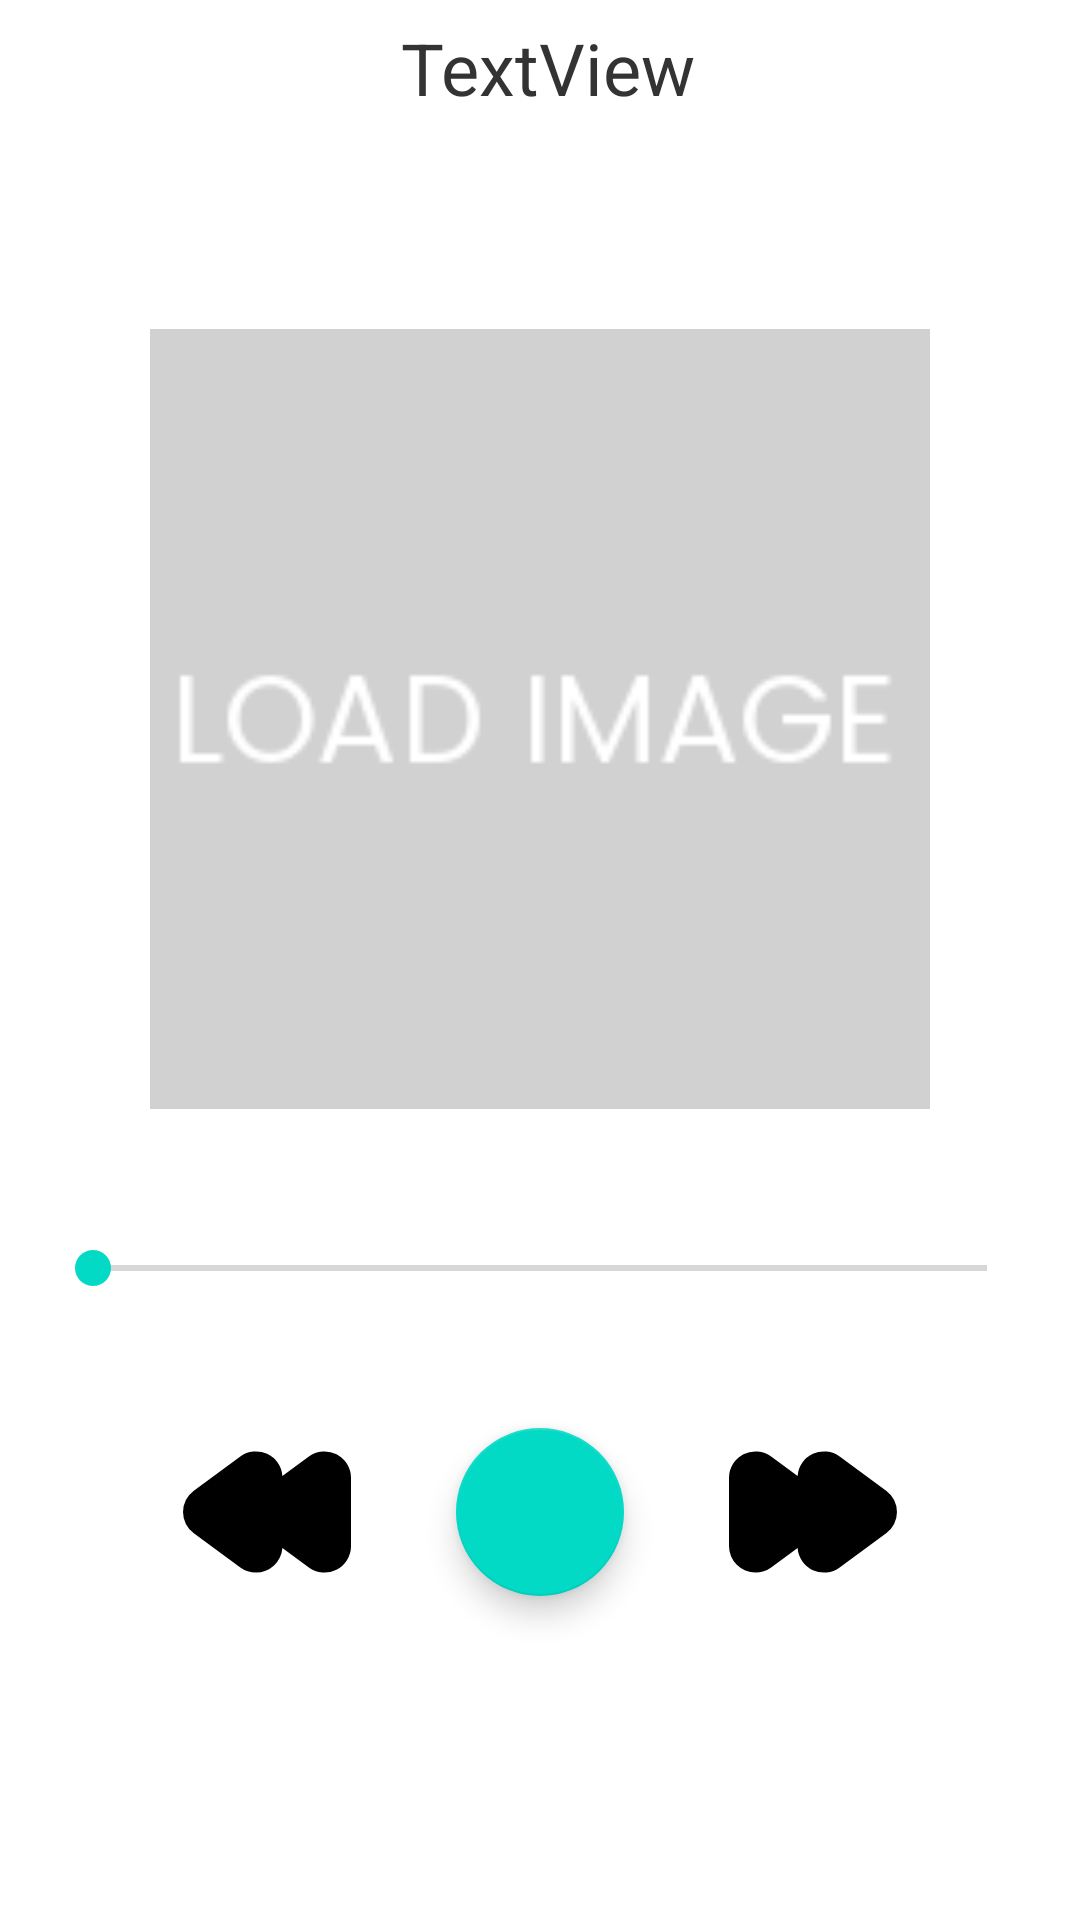

Where to tap for icons on this 1080*1920 app screen, as [x,y]:
next: [813,1512]
previous: [267,1512]
